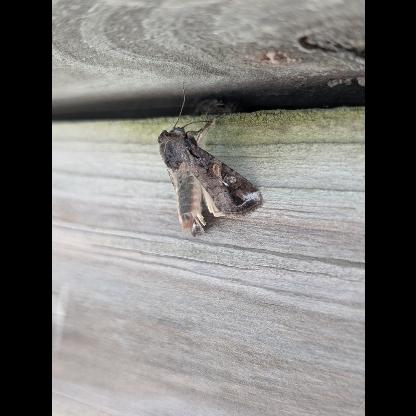Fall Armyworm Moth: (153, 79, 267, 241)
